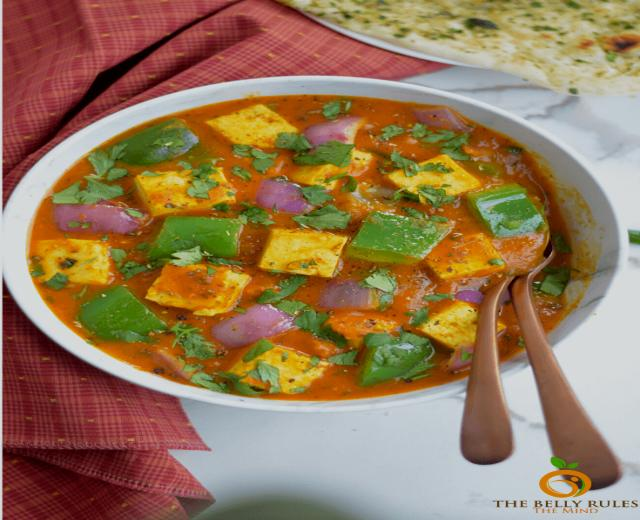kadai paneer: (2, 78, 607, 404), (392, 65, 616, 237), (257, 0, 624, 98), (12, 360, 191, 503), (318, 2, 482, 46), (212, 16, 330, 70), (1, 1, 86, 73)
